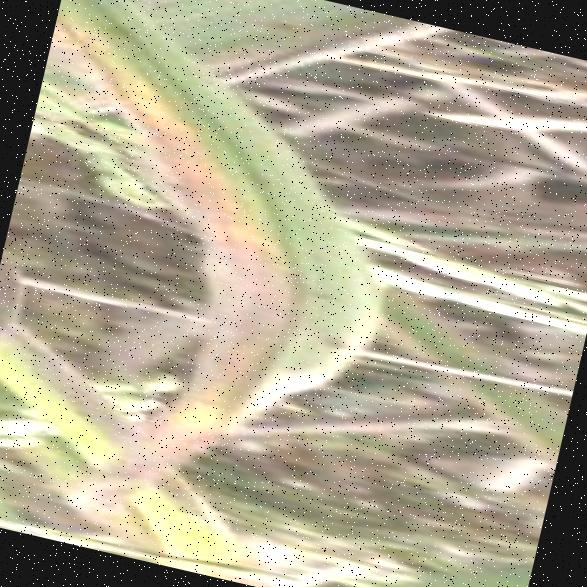Bacteria_Leaf_Blight: (146, 103, 407, 452)
